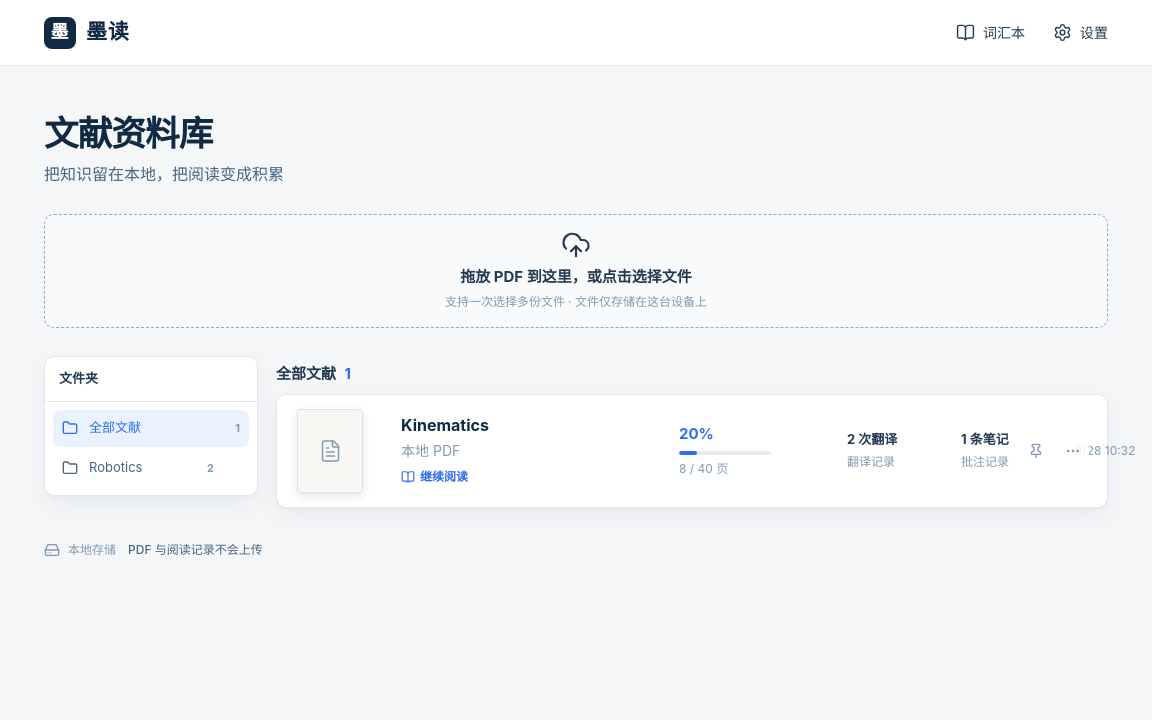
Test: LibraryScreen › keeps pinning visible and groups secondary document actions
Expected: the button named "置顶文献：Kinematics" is shown, left=1020, top=435, right=1052, bottom=467
Click the button named "更多操作：Kinematics": (1073, 451) left=1057, top=435, right=1089, bottom=467
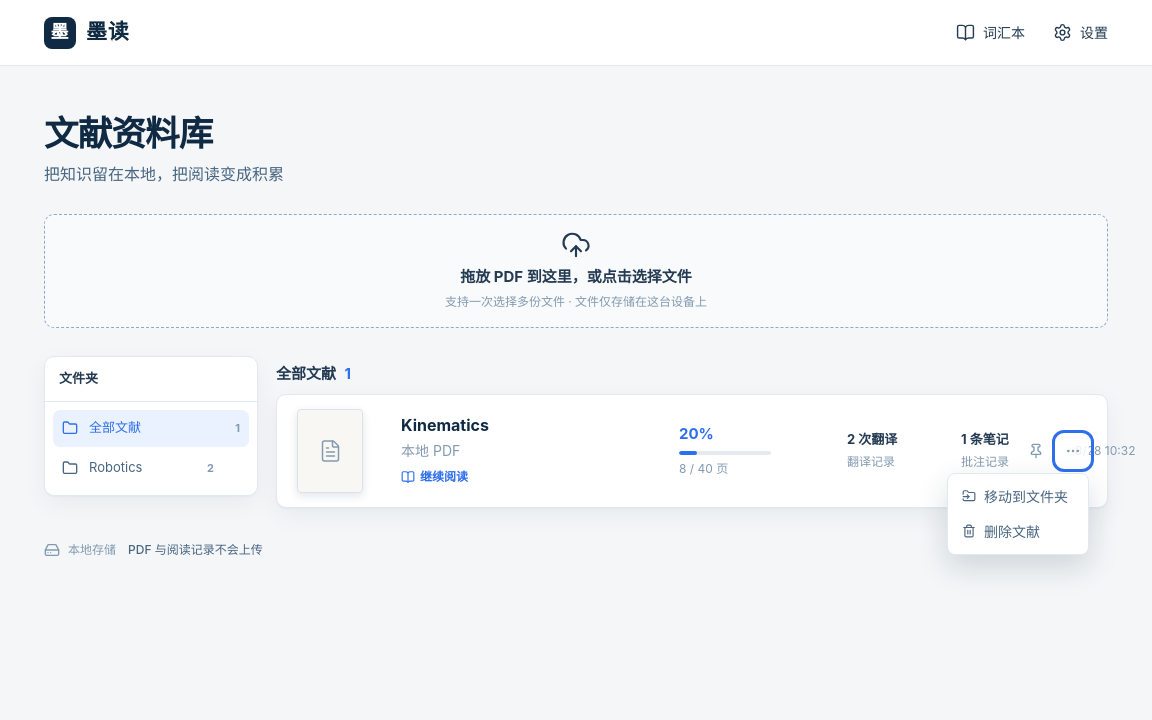
Expected: the menu item "移动到文件夹" is shown, left=953, top=479, right=1083, bottom=514
Expected: the menu item "删除文献" is shown, left=953, top=514, right=1083, bottom=549
